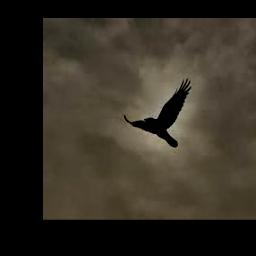Crow: (124, 78, 191, 147)
